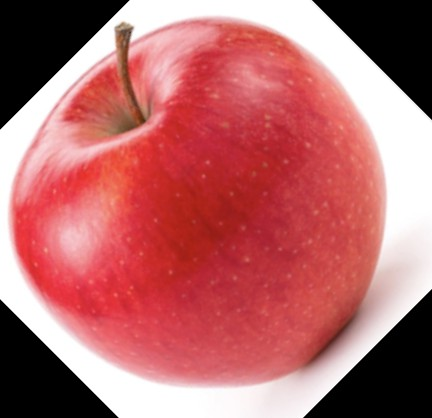fresh_apple: (12, 18, 390, 387)
